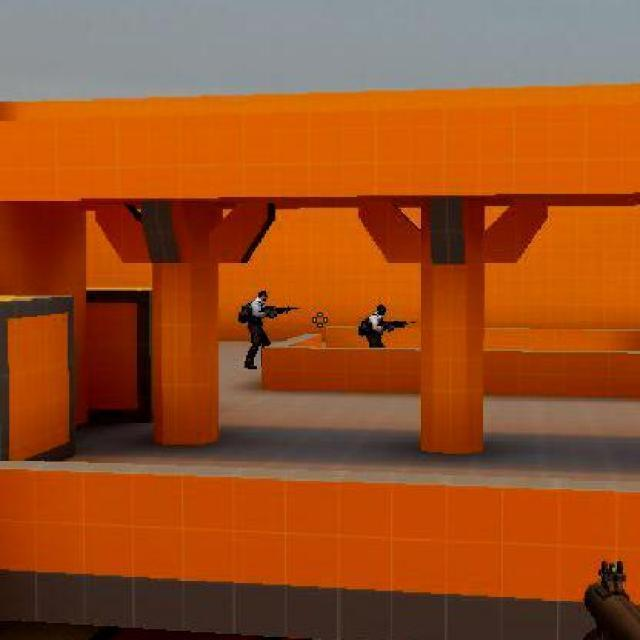Dead: (256, 289, 270, 303), (375, 303, 388, 317)
T-Body: (240, 289, 274, 371), (358, 304, 391, 350)
